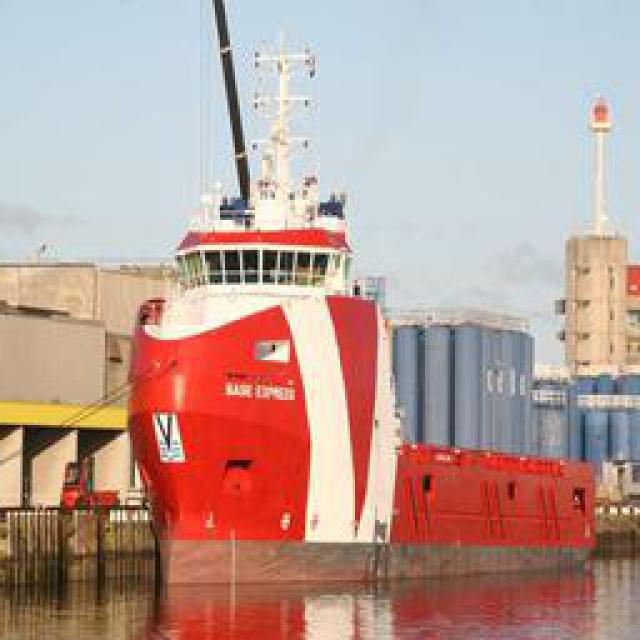Ship: (131, 1, 399, 616)
